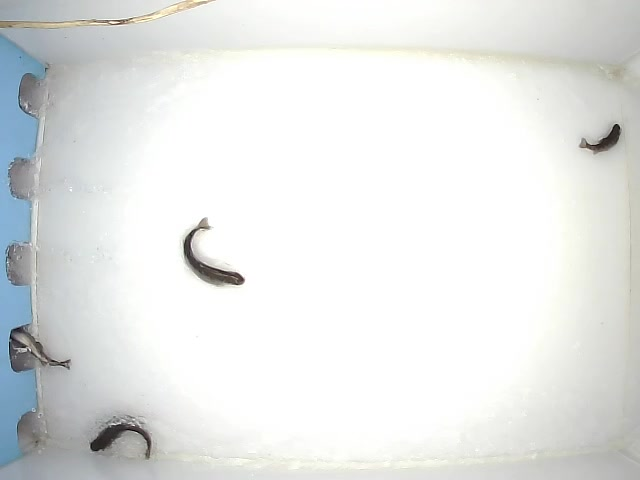fish: (181, 214, 246, 287), (87, 419, 154, 461), (578, 124, 623, 155)
